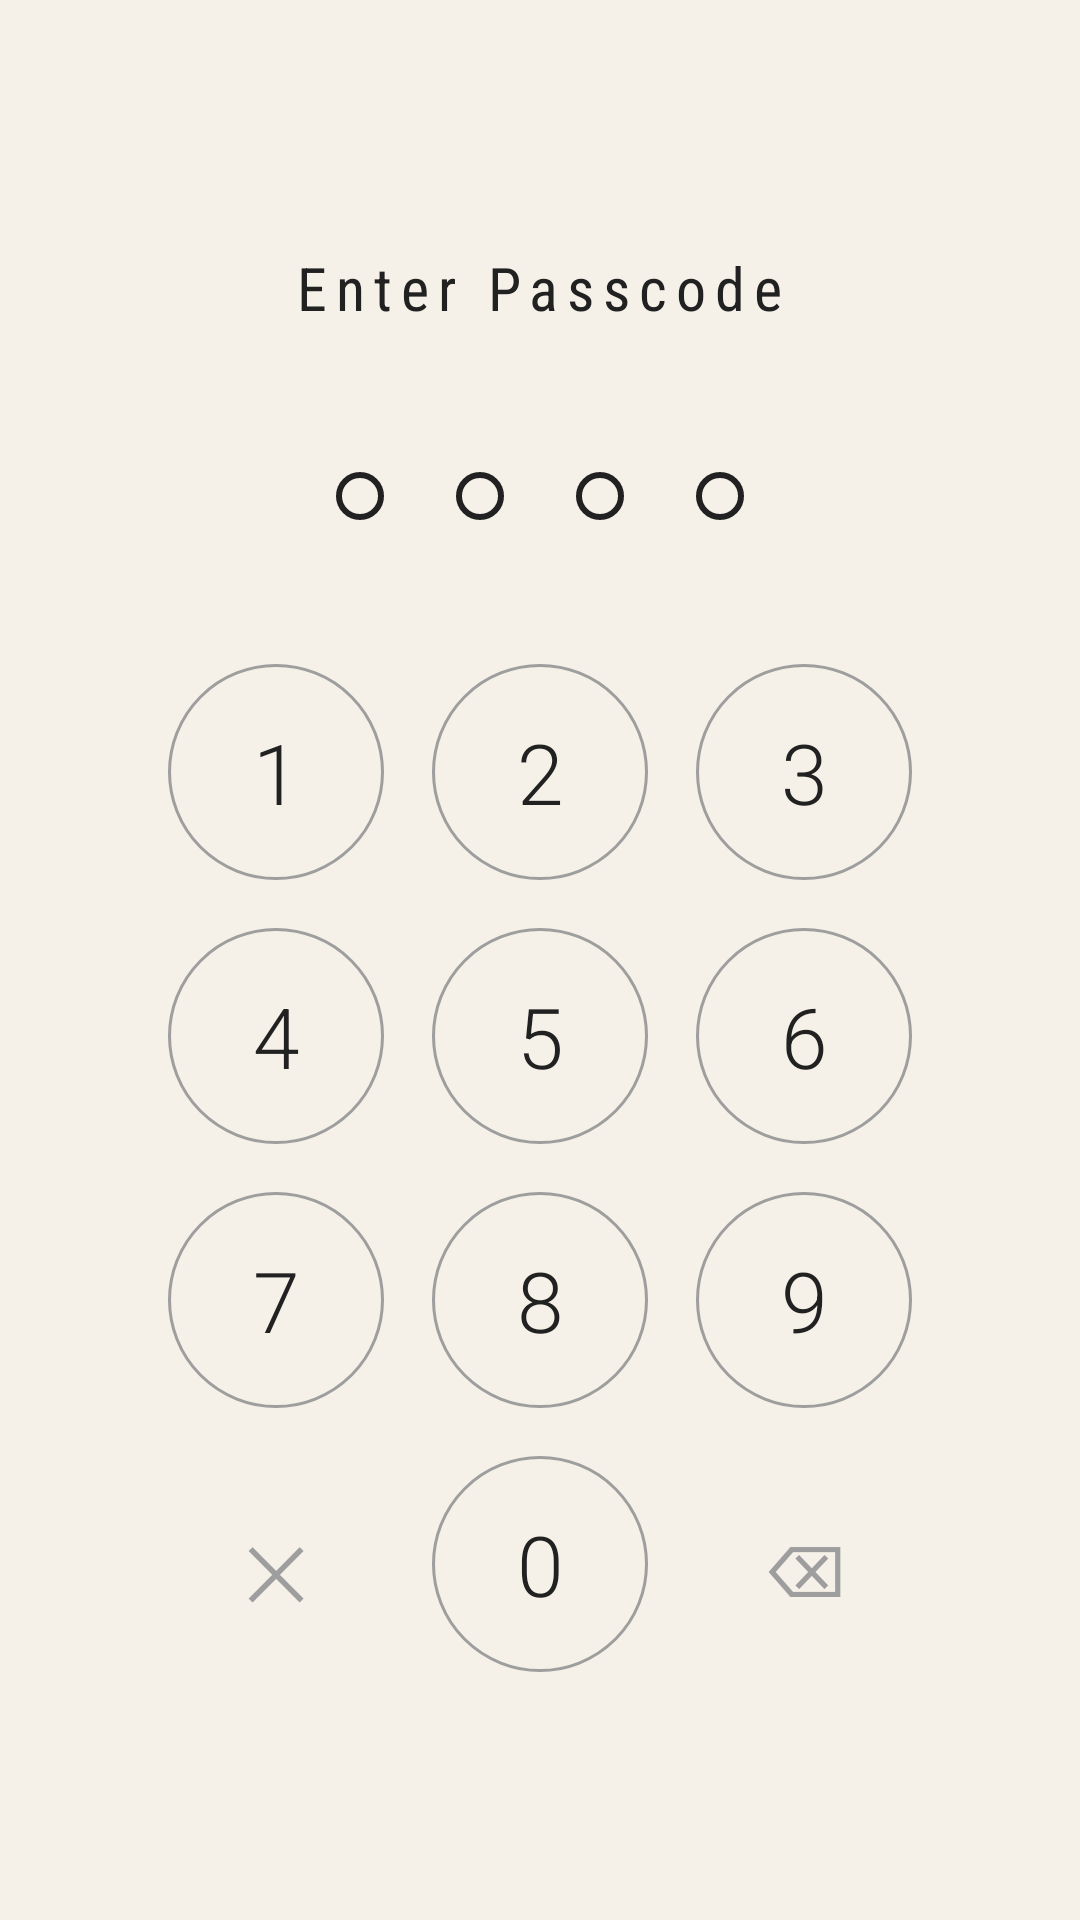

Icons on this 1080*1920 Android screen, each with the point to tap as (x=x, y=y):
passcode dot empty: (x=360, y=496), (x=480, y=496), (x=600, y=496), (x=720, y=496)
